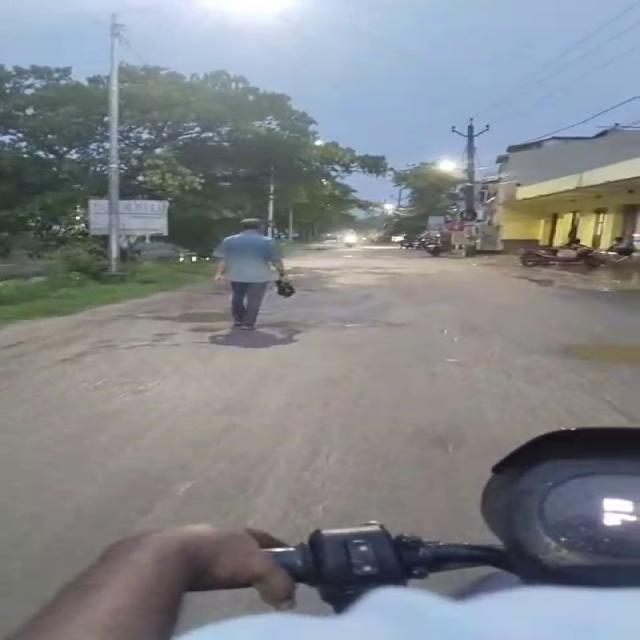pothole: (542, 334, 640, 363), (534, 272, 624, 296), (325, 317, 403, 331)
